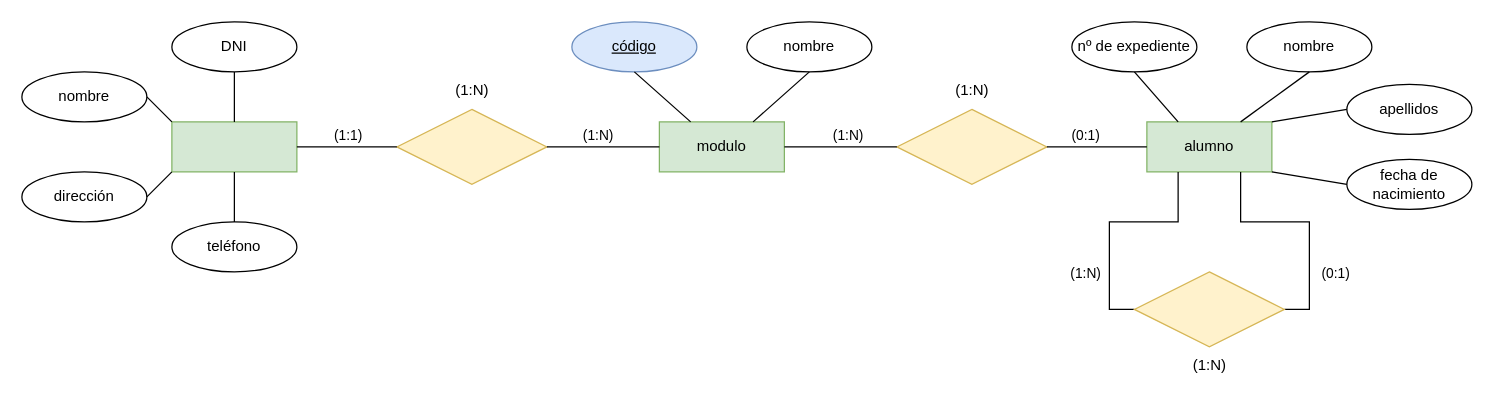
This 1494x406 diagram has some shape labels left out. Each missing label, with the centre of its shape:
"es delegado de" belongs at point 1208,309.
"esta matriculado" belongs at point 971,146.
"imparten" belongs at point 471,146.
"profesor" belongs at point 234,146.
